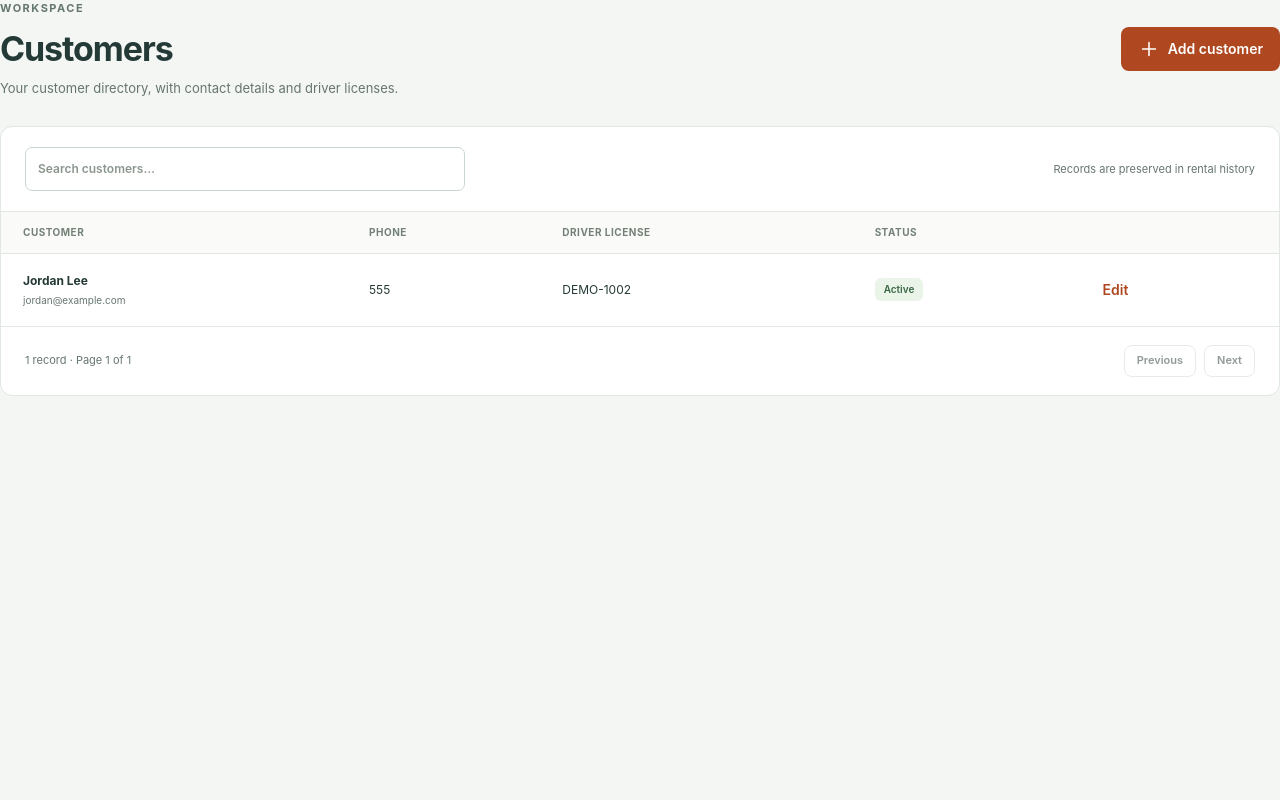
Test case: customer create failures keep entered values and allow a corrected retry
Expected: the text "Jordan Lee" is shown, [23,273,88,288]
Click the button "Add customer": [1200, 49] box [1121,27,1279,71]
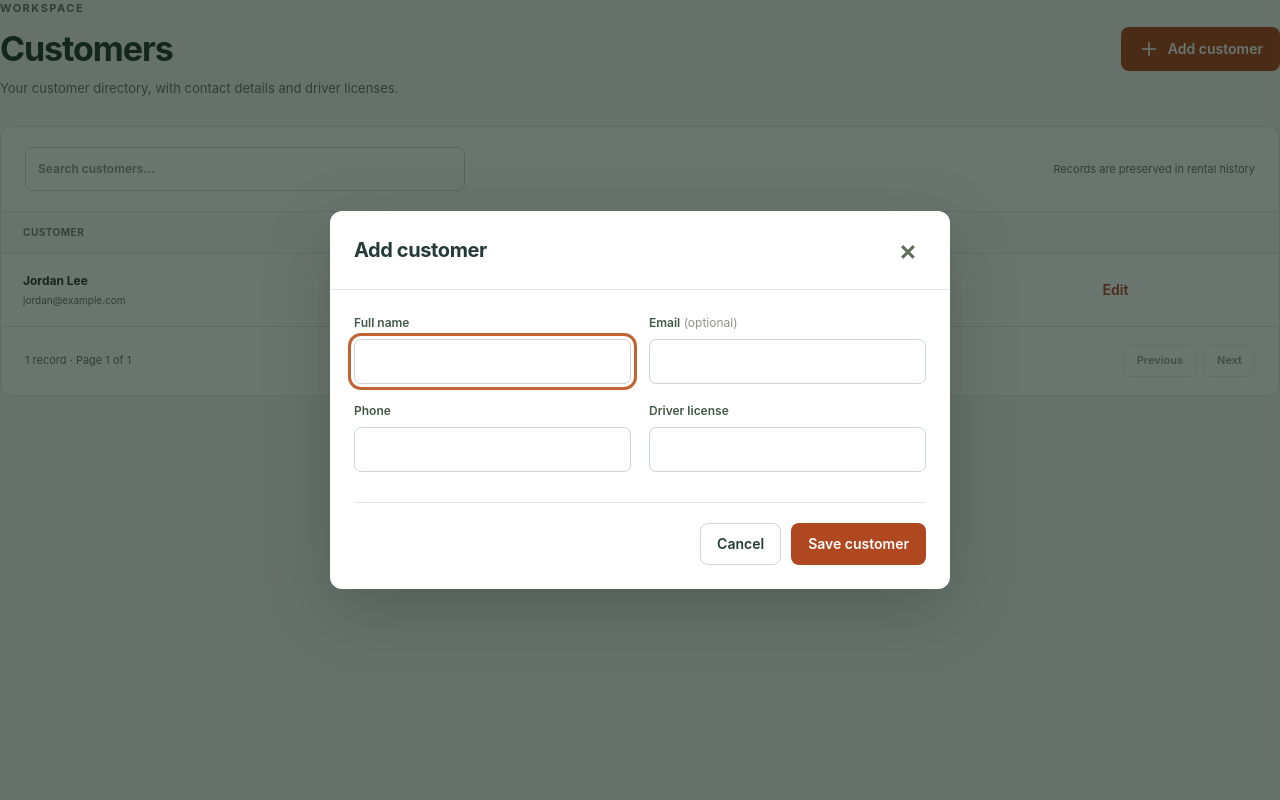
In the field labelled "Full name": [492, 362] box [354,339,631,384], type "Sam Demo"
In the field labelled "Phone": [492, 450] box [354,427,631,472], type "555-1234"
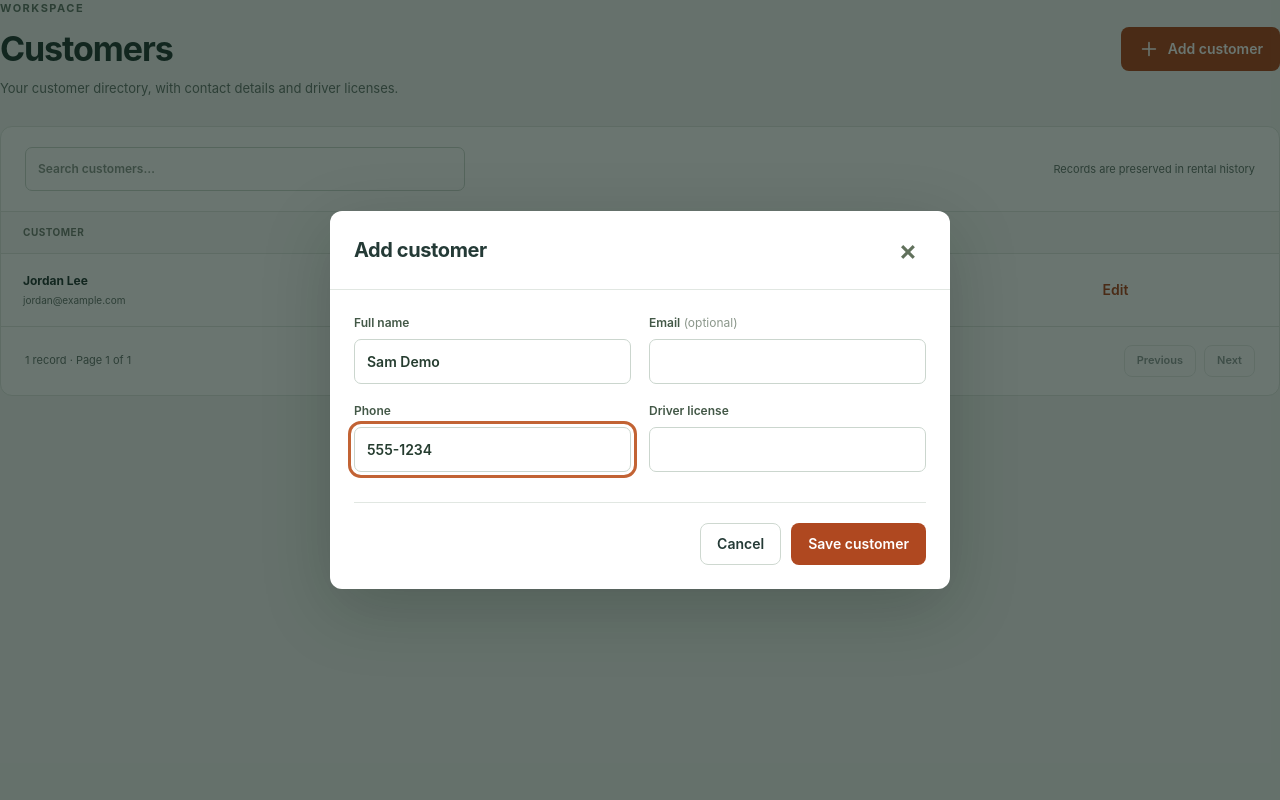
In the field labelled "Driver license": [788, 450] box [649,427,926,472], type "DEMO-1002"
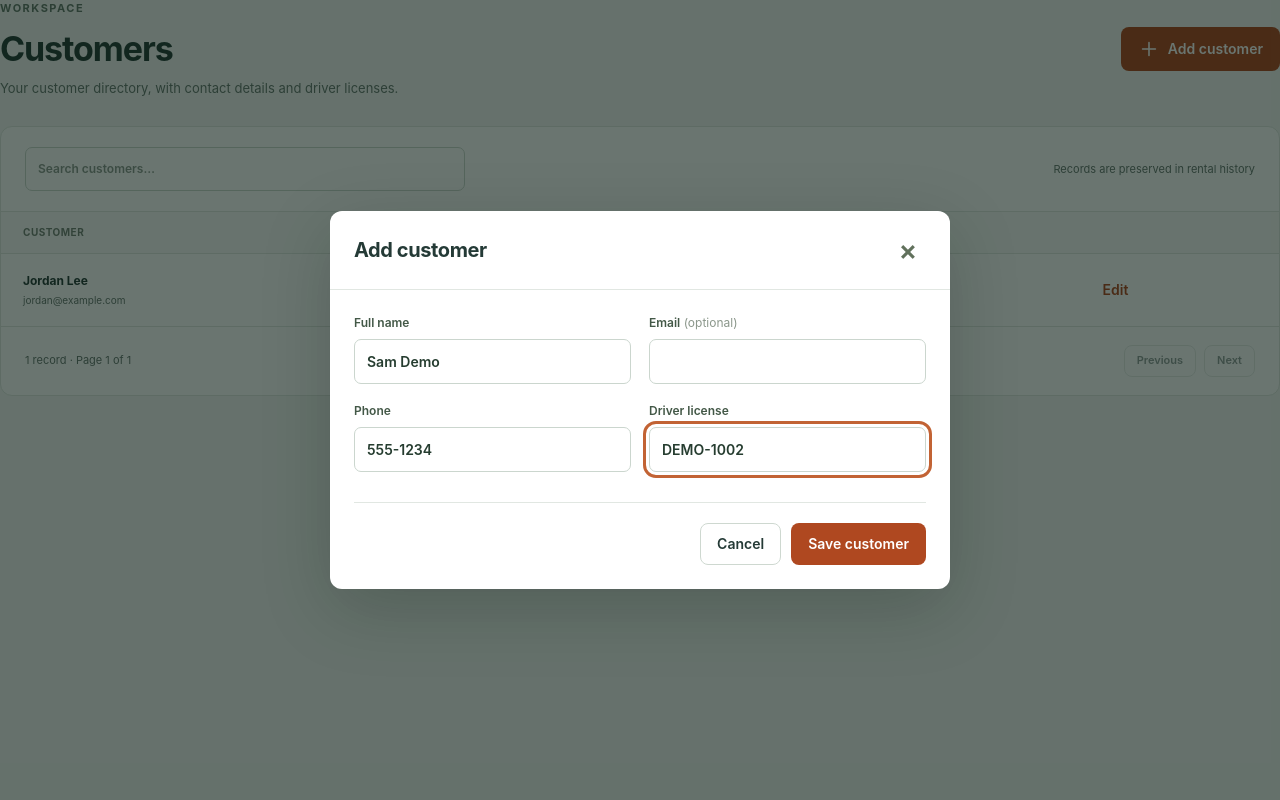
Click the button "Save customer": [859, 544] box [791,523,926,565]
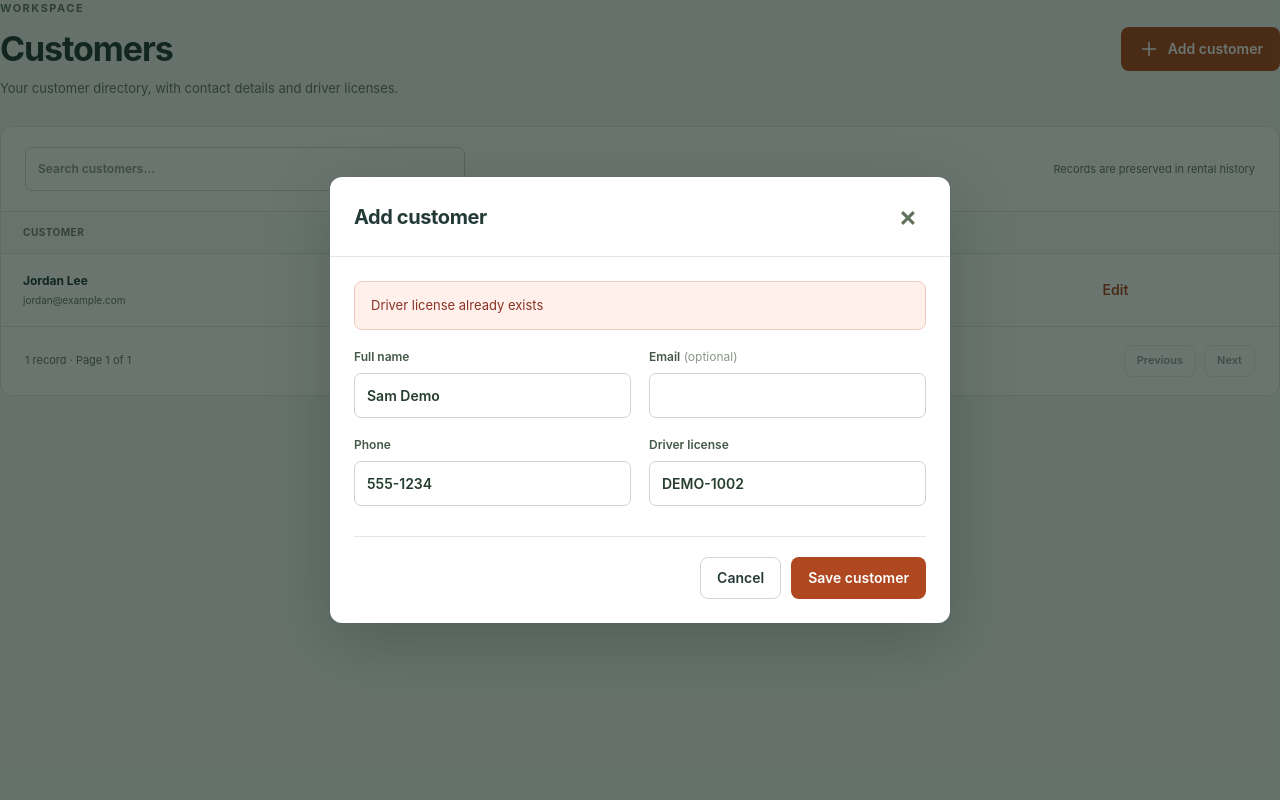
Expected: the text "Driver license already exists" is shown, [354,281,926,330]
Replace the text in the field labelled "Driver license" with "NEW-123": [788, 483] box [649,461,926,506]
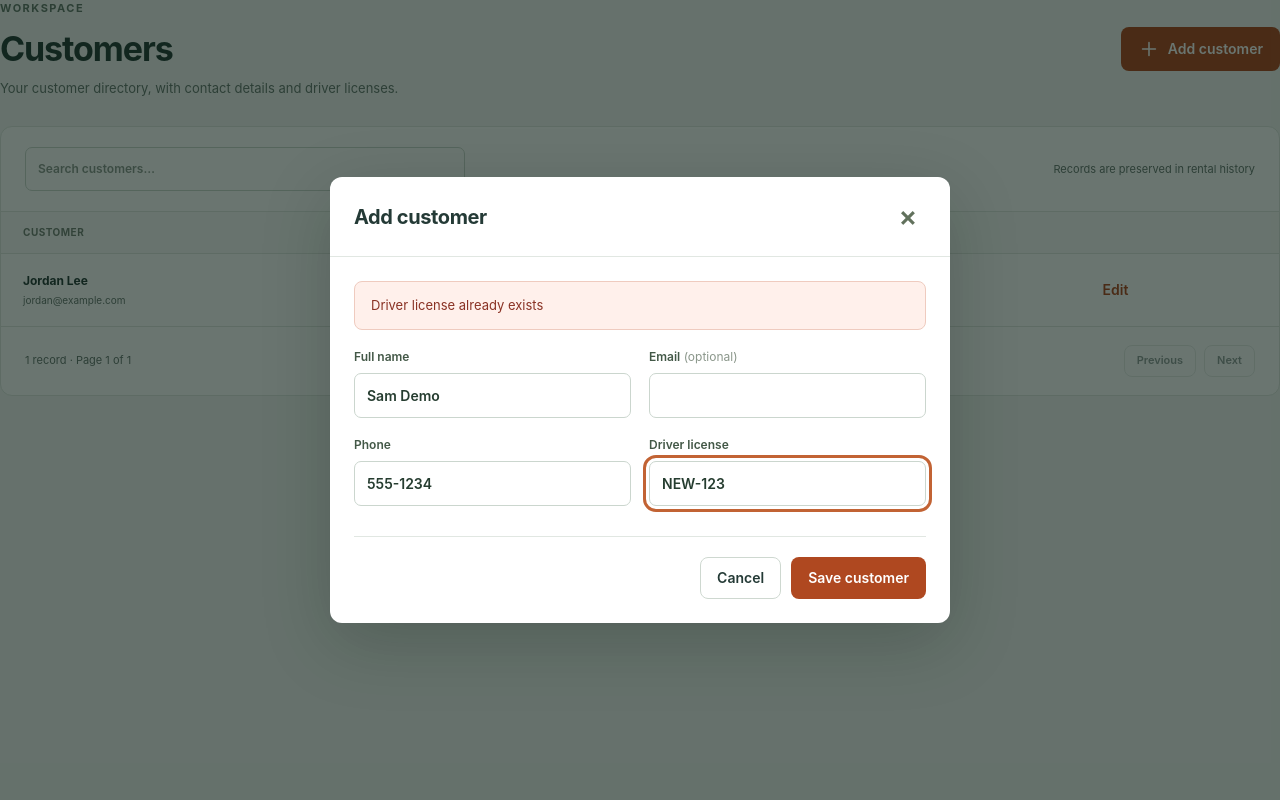
Click the button "Save customer": [859, 578] box [791,557,926,599]
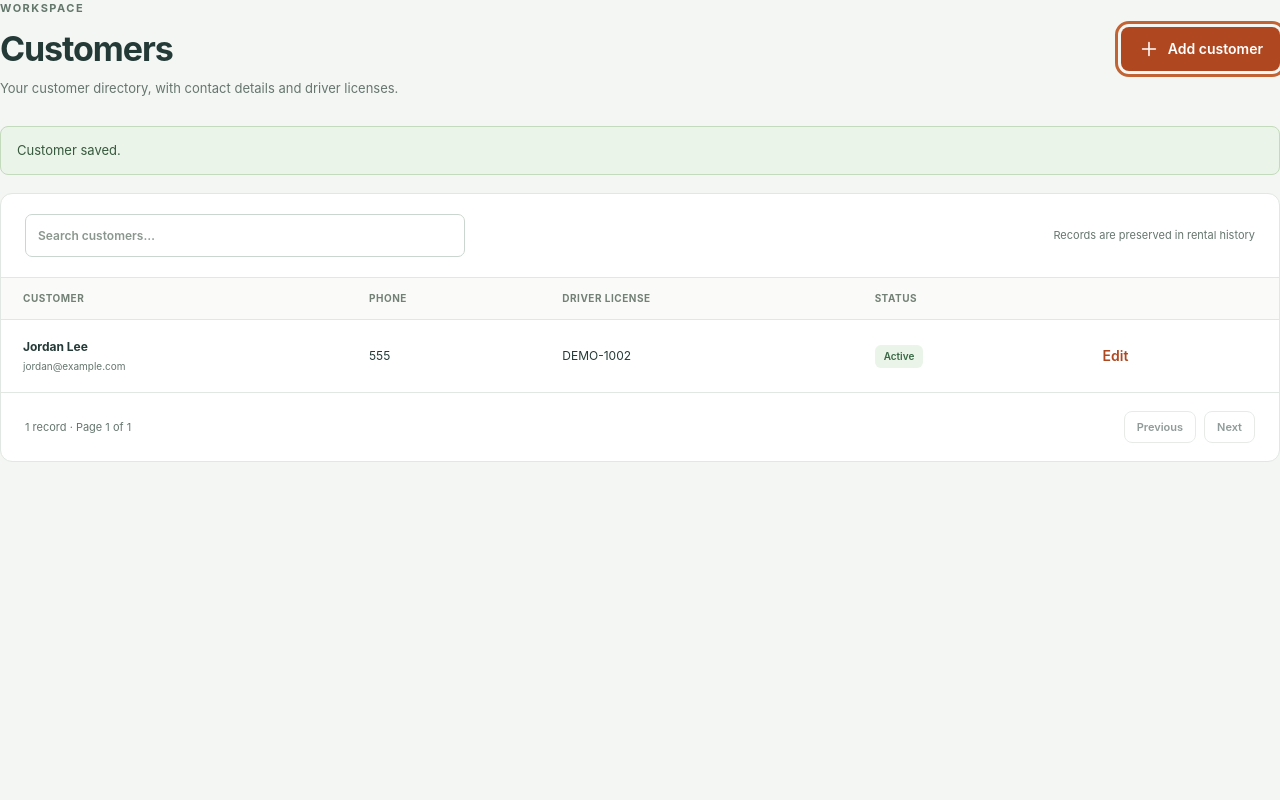
Expected: the dialog is gone
